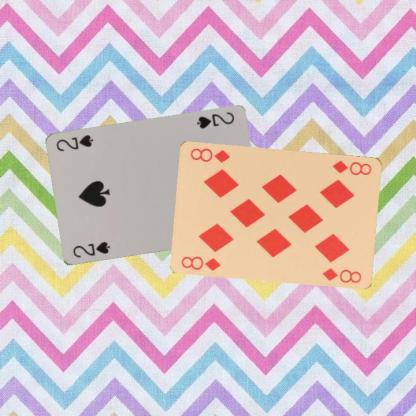2s: (194, 109, 235, 130), (70, 240, 111, 260)
8d: (178, 253, 223, 272), (330, 158, 374, 176)
